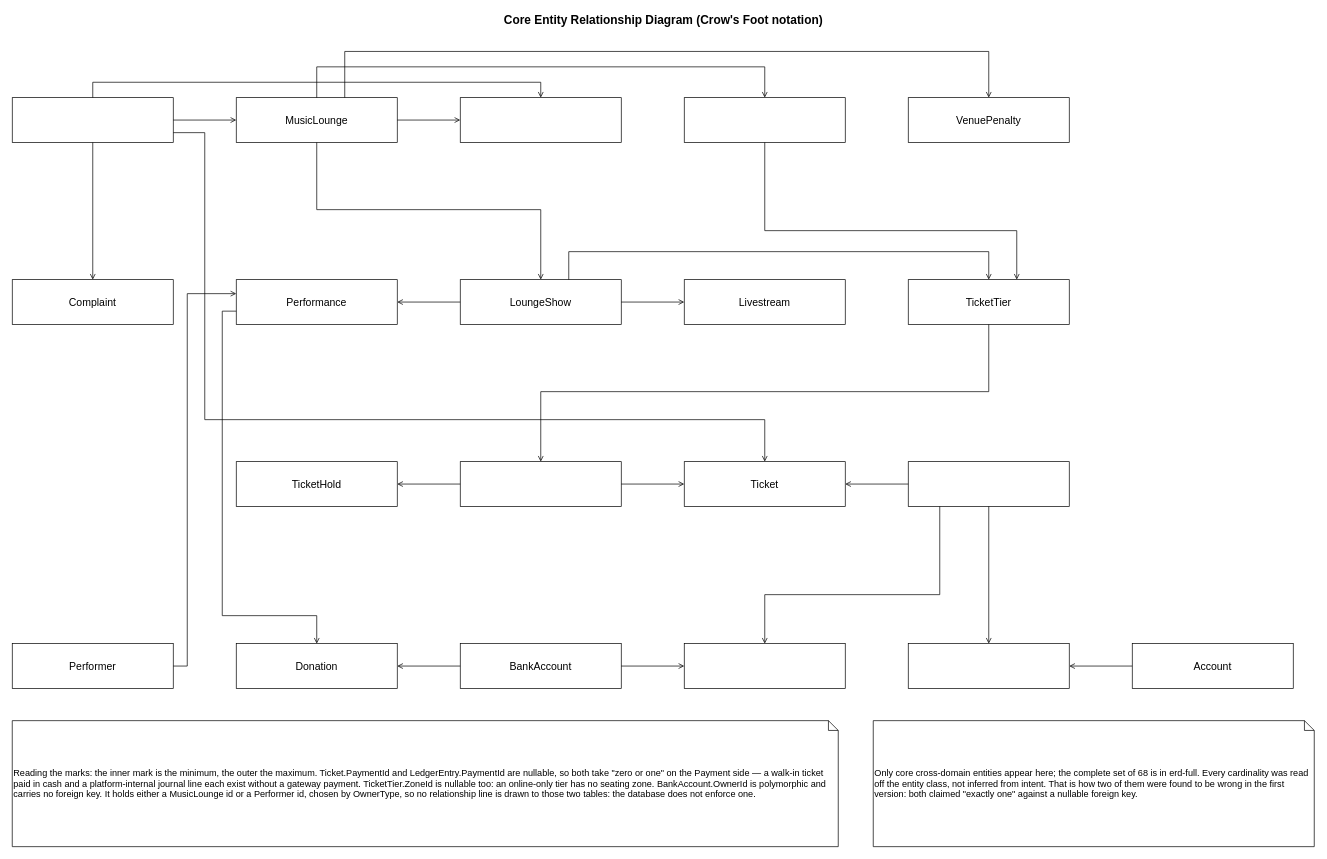
This 1327x859 diagram has some shape labels left out. The box of each missing label's shape, as (x1, y1, x2, y2) in pixels:
LedgerEntry: (908, 643, 1069, 688)
LoungeStaff: (460, 97, 621, 142)
Payment: (908, 461, 1069, 506)
SeatingZone: (684, 97, 845, 142)
Settlement: (684, 643, 845, 688)
TicketPrice: (460, 461, 621, 506)
User: (12, 97, 173, 142)
